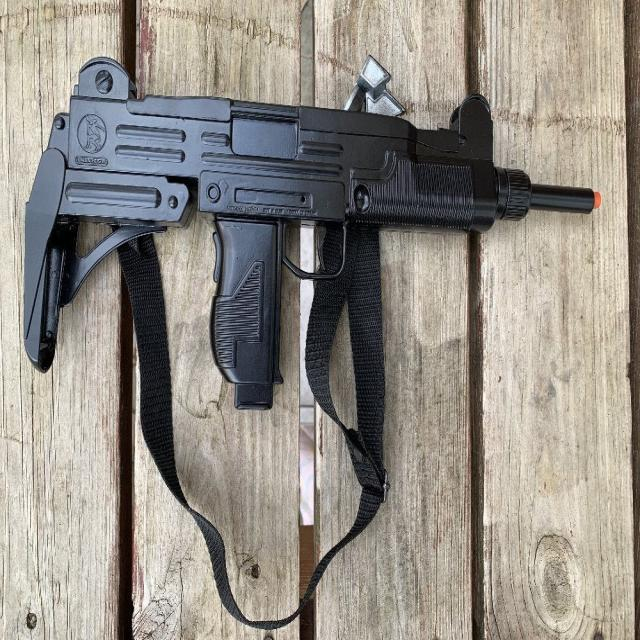SMG: (22, 58, 598, 412)
